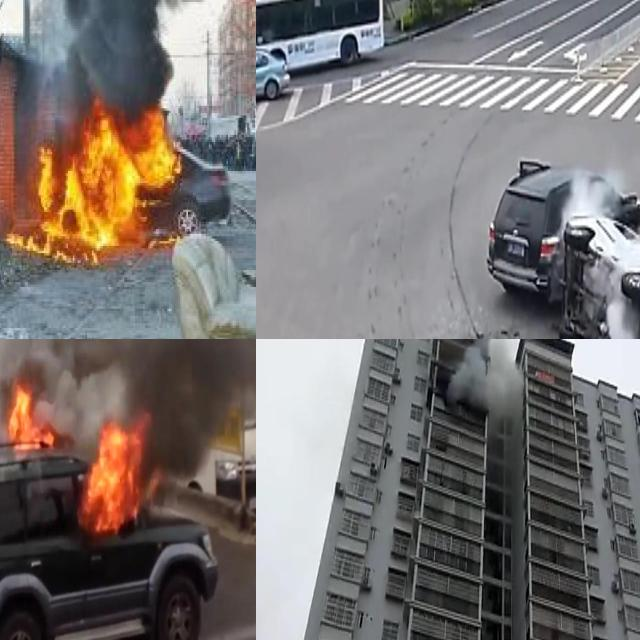fire: (4, 98, 182, 260), (82, 420, 149, 536), (5, 380, 54, 451)
smoke: (0, 339, 256, 474), (51, 0, 218, 101), (448, 339, 525, 425), (564, 170, 612, 223), (598, 288, 638, 339)
